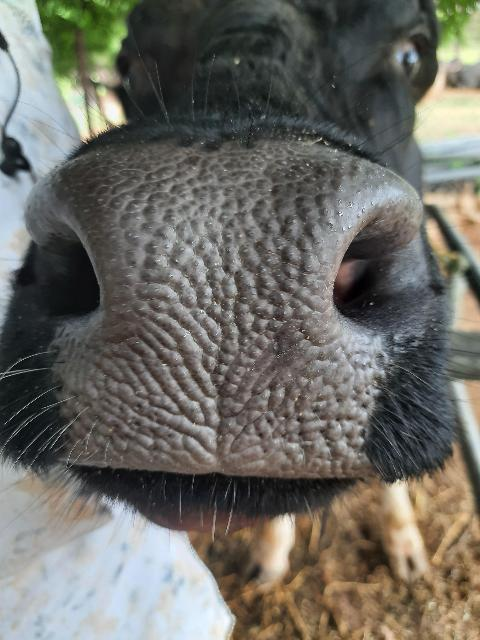Muzzle: (66, 165, 356, 471)
